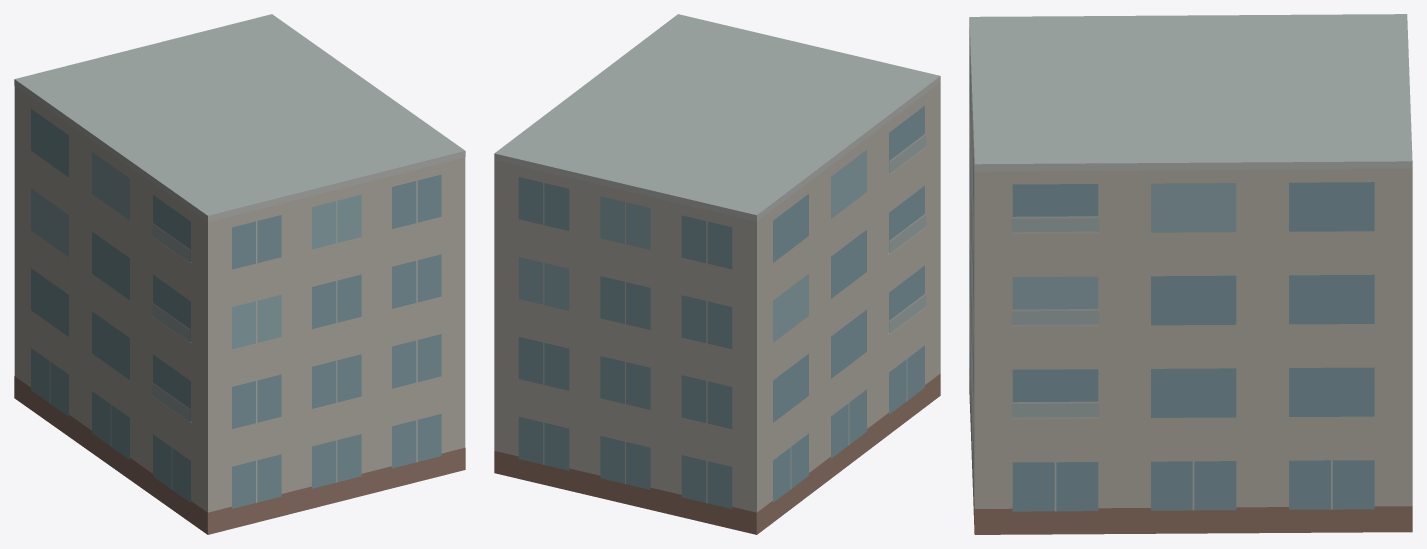
Rendered from survey-upis-33036508.glb.
3 renders of one model, left to right at view 1: azimuth 30°, elevation 25°; view 2: azimuth 150°, elevation 25°; view 3: azimuth 270°, elevation 25°, orthographic. The views are drawn at different scales.
Visible parts, largest first — view 1: survey-upis-33036508.tmp; view 2: survey-upis-33036508.tmp; view 3: survey-upis-33036508.tmp.
Part boxes in pixels (x1,y1,x2,y2): survey-upis-33036508.tmp: [14, 14, 465, 534]; survey-upis-33036508.tmp: [494, 14, 940, 534]; survey-upis-33036508.tmp: [969, 14, 1412, 534].
Bounding box in the file's own units: 10.63 × 12.2 × 13.23.
